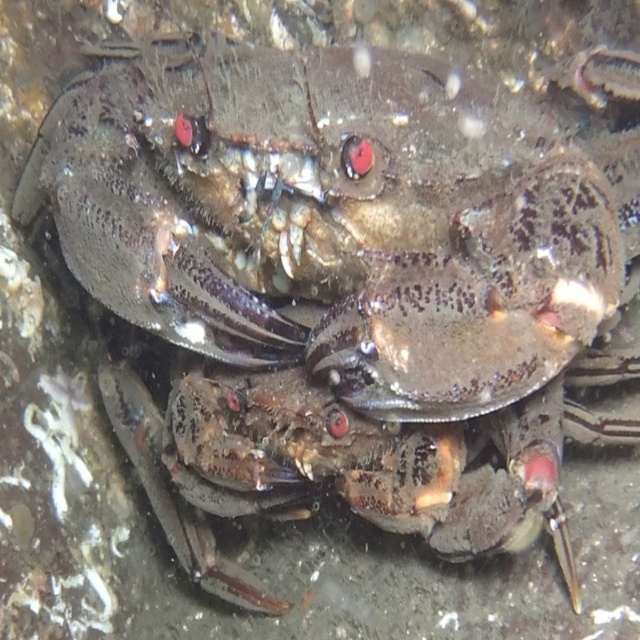Crab: (9, 24, 639, 616)
